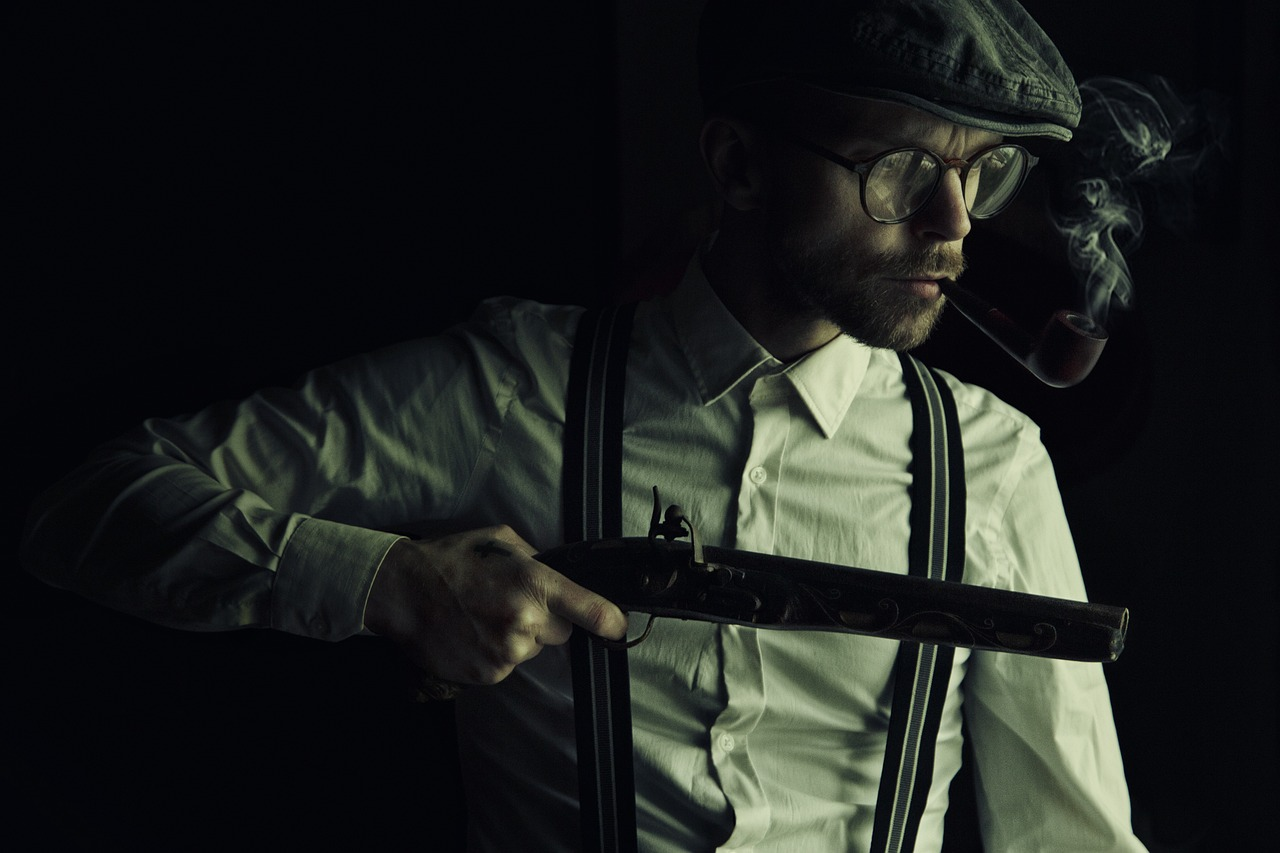gun: (526, 480, 1133, 669)
